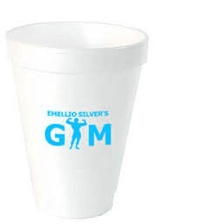paper_cup: (0, 15, 154, 224)
